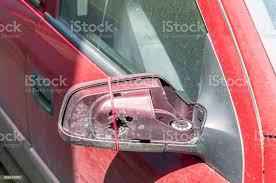Sidemirror-Damage: (54, 67, 219, 161)
